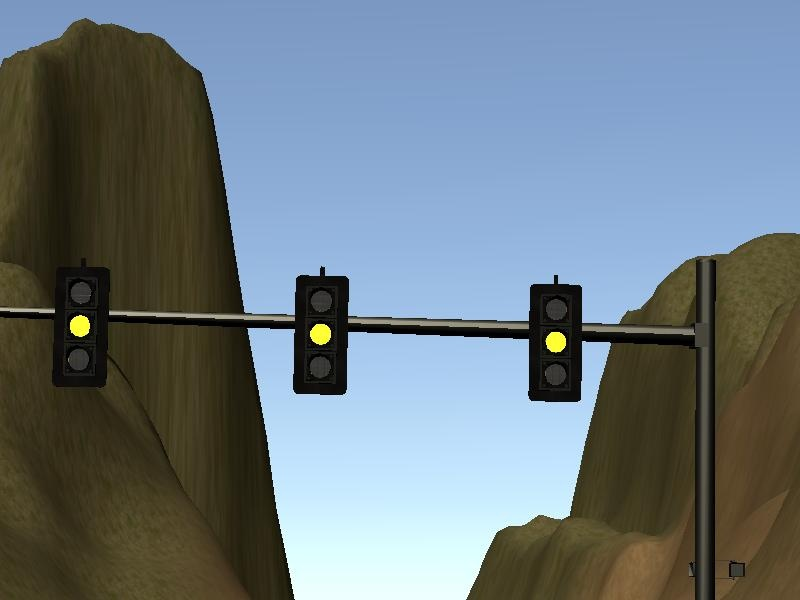YELLOW: (51, 265, 110, 386), (527, 282, 585, 405), (290, 272, 348, 395)
